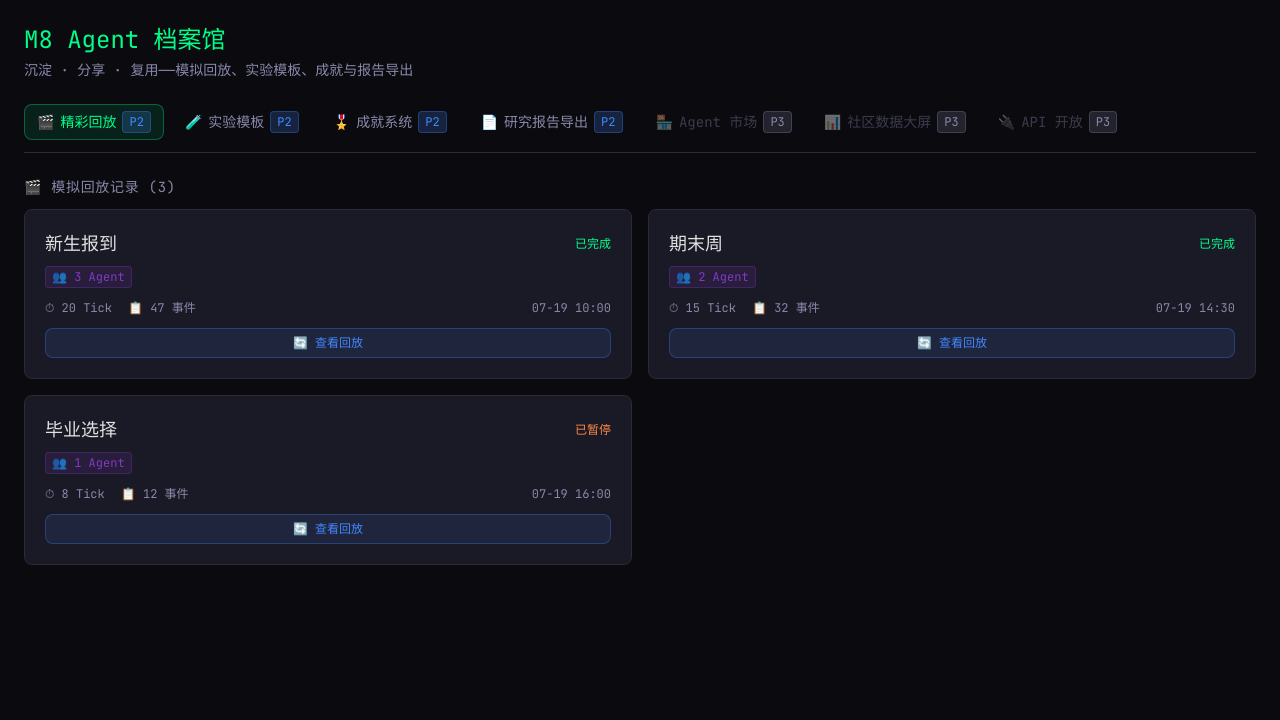
Step 45 Archive — Tab 栏与切换 › switches to achievements tab
The width and height of the screenshot is (1280, 720).
Click the text "成就系统" at (384, 122), box [356,112,412,132]
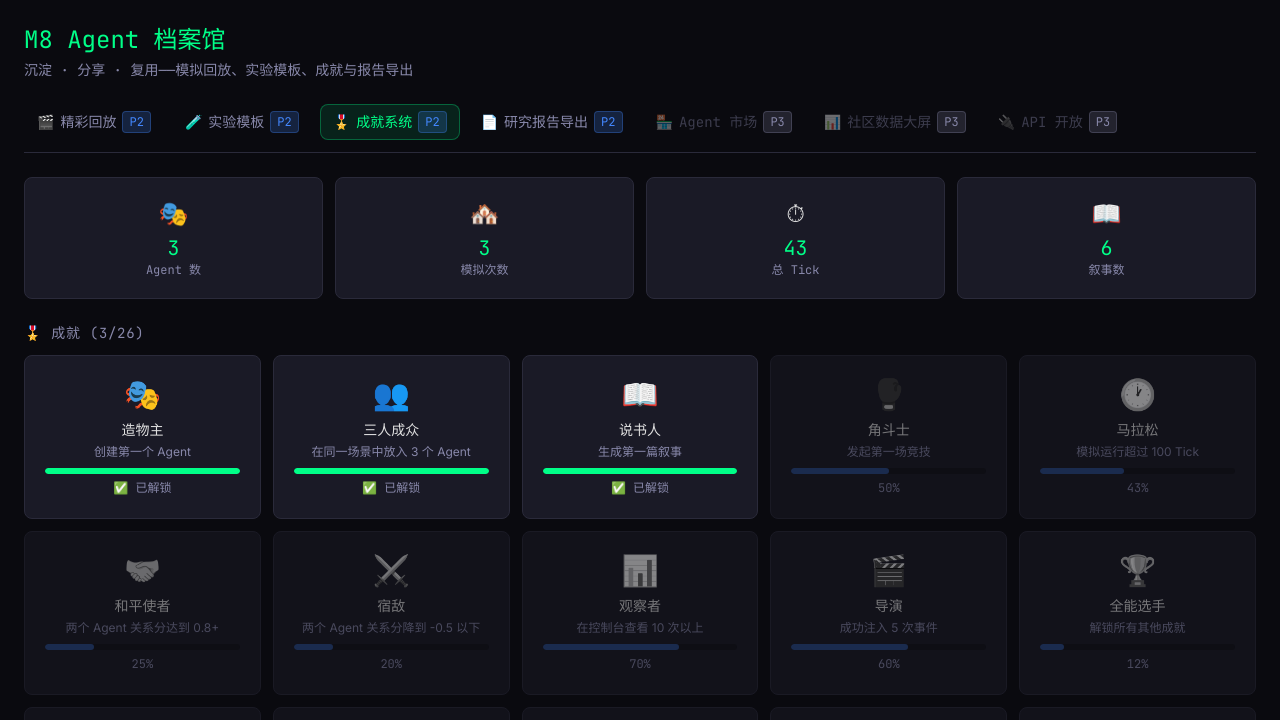
expect the heading "🎖️ 成就 (3/26)" is shown: met, box [24,324,144,342]
expect the heading "造物主" is shown: met, box [121,421,163,439]
